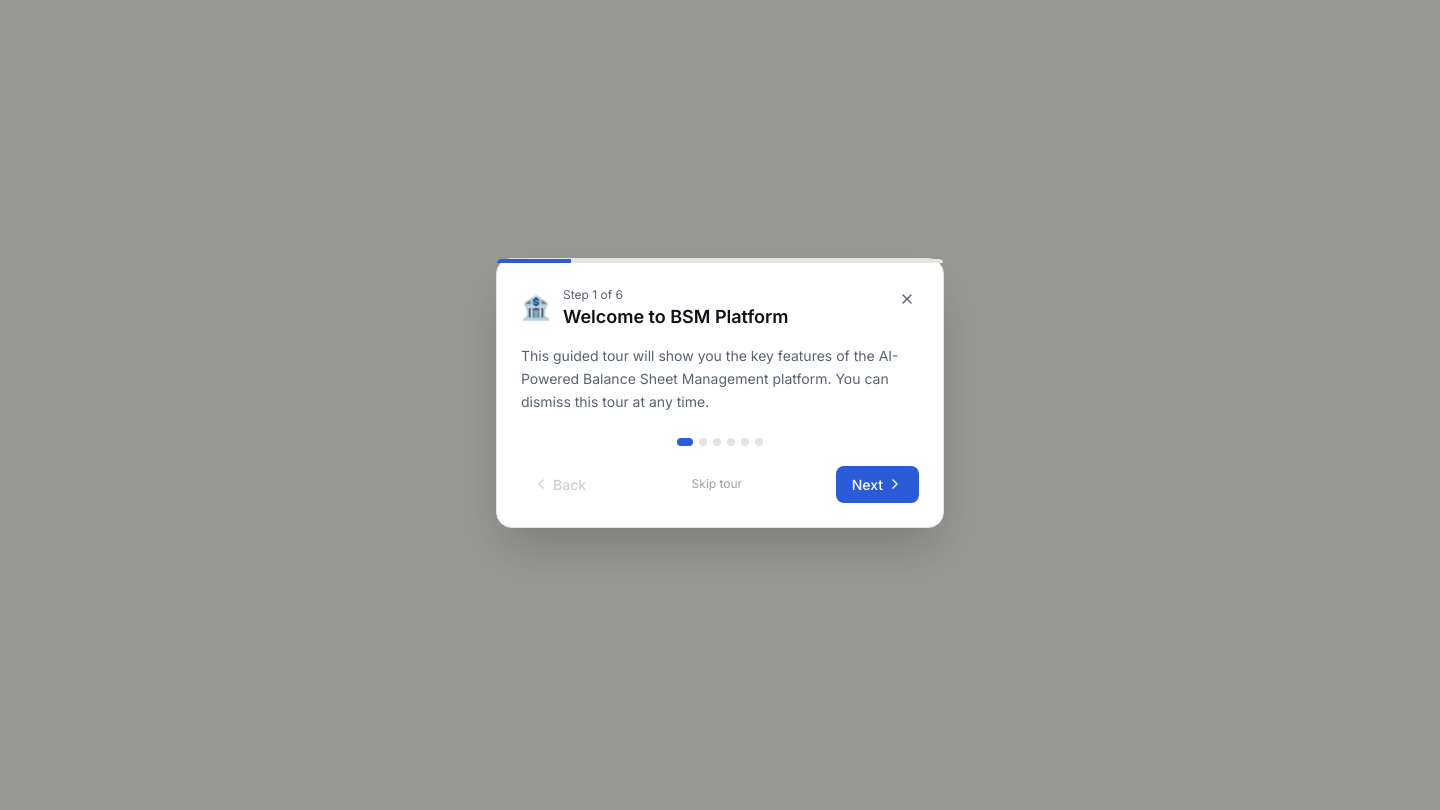
Scenario: ProductTour › last step shows Get started button
Step 1. Click the button with aria-label "Next step" → (877, 484), box left=836, top=466, right=919, bottom=503
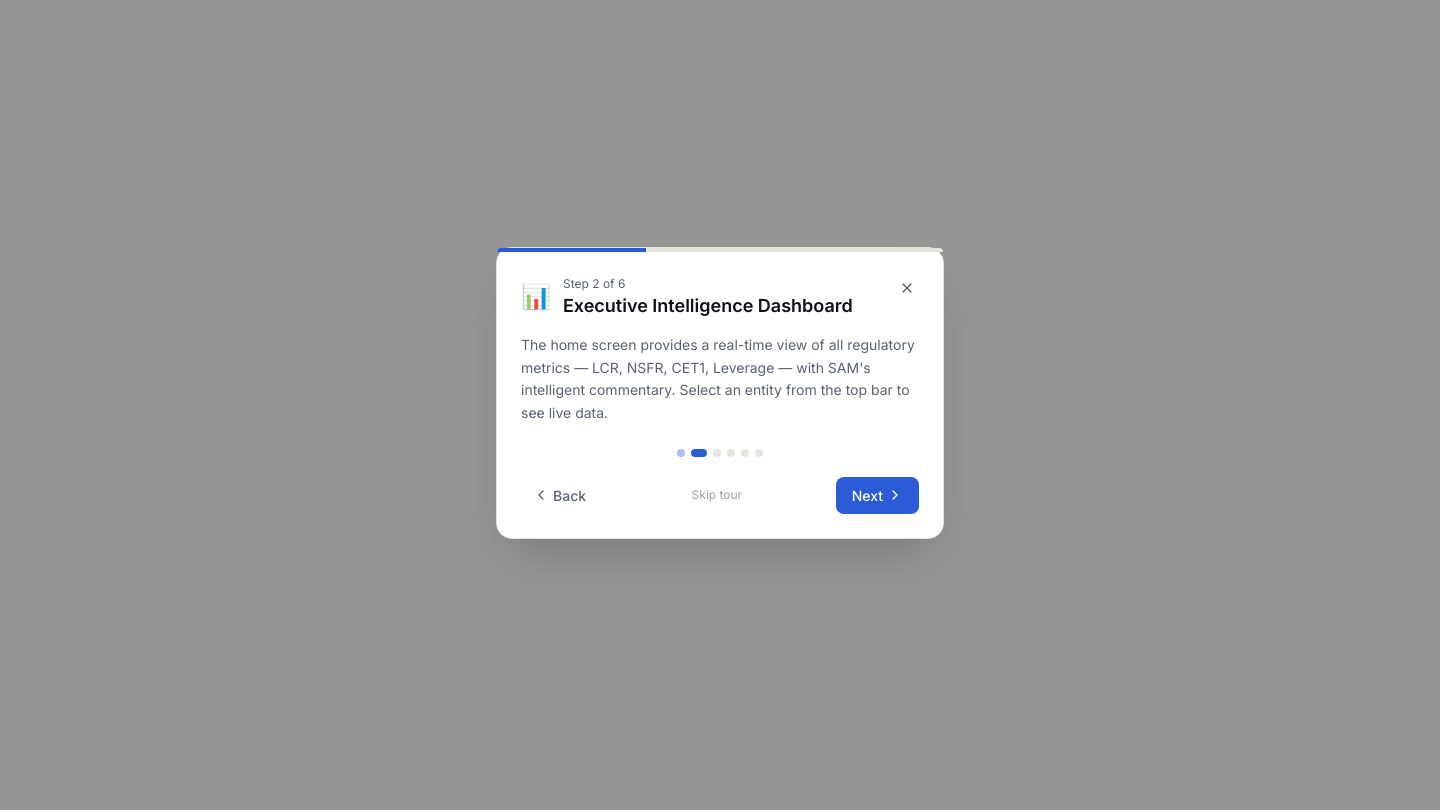
Step 2. Click the button with aria-label "Next step" → (877, 496), box left=836, top=477, right=919, bottom=514
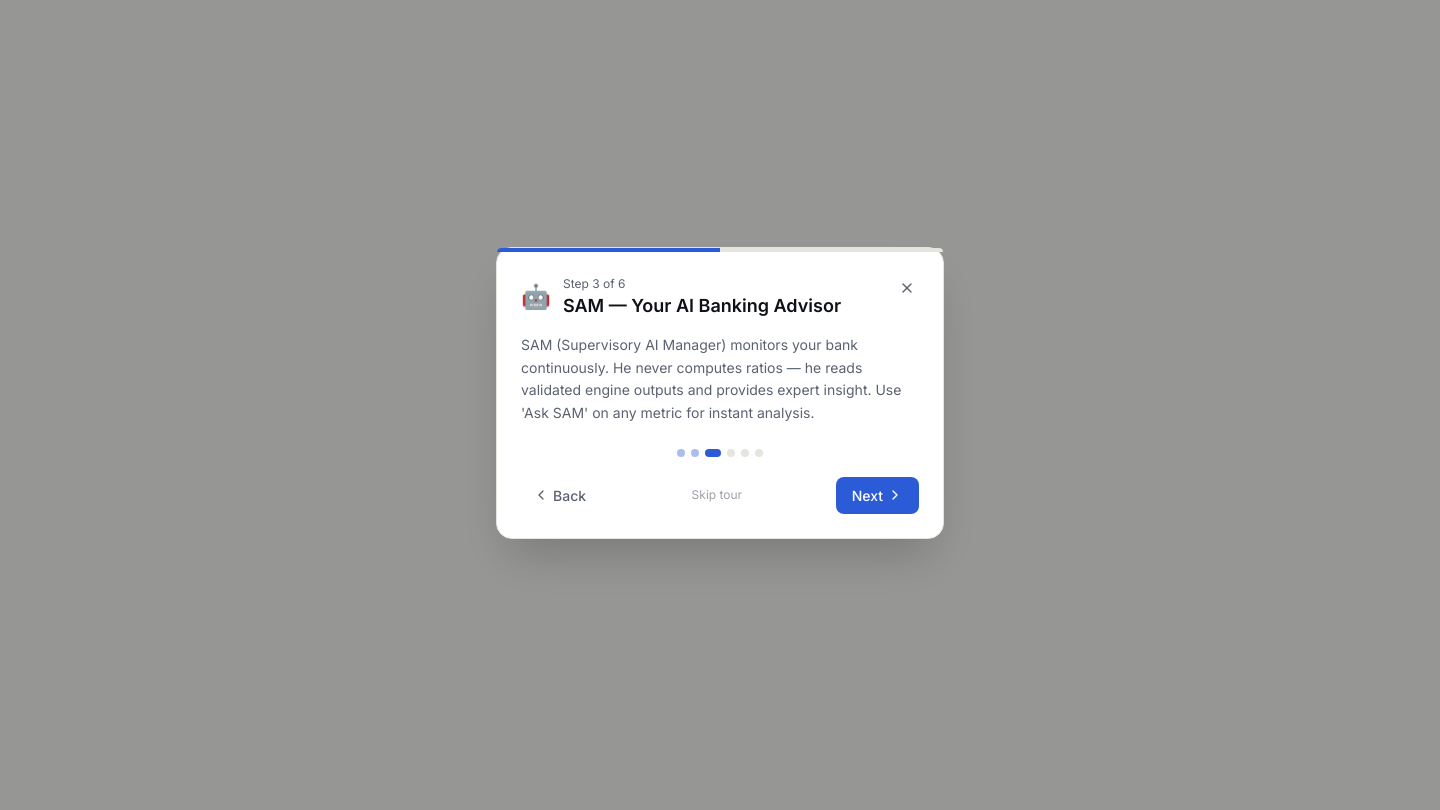
Step 3. Click the button with aria-label "Next step" → (877, 496), box left=836, top=477, right=919, bottom=514
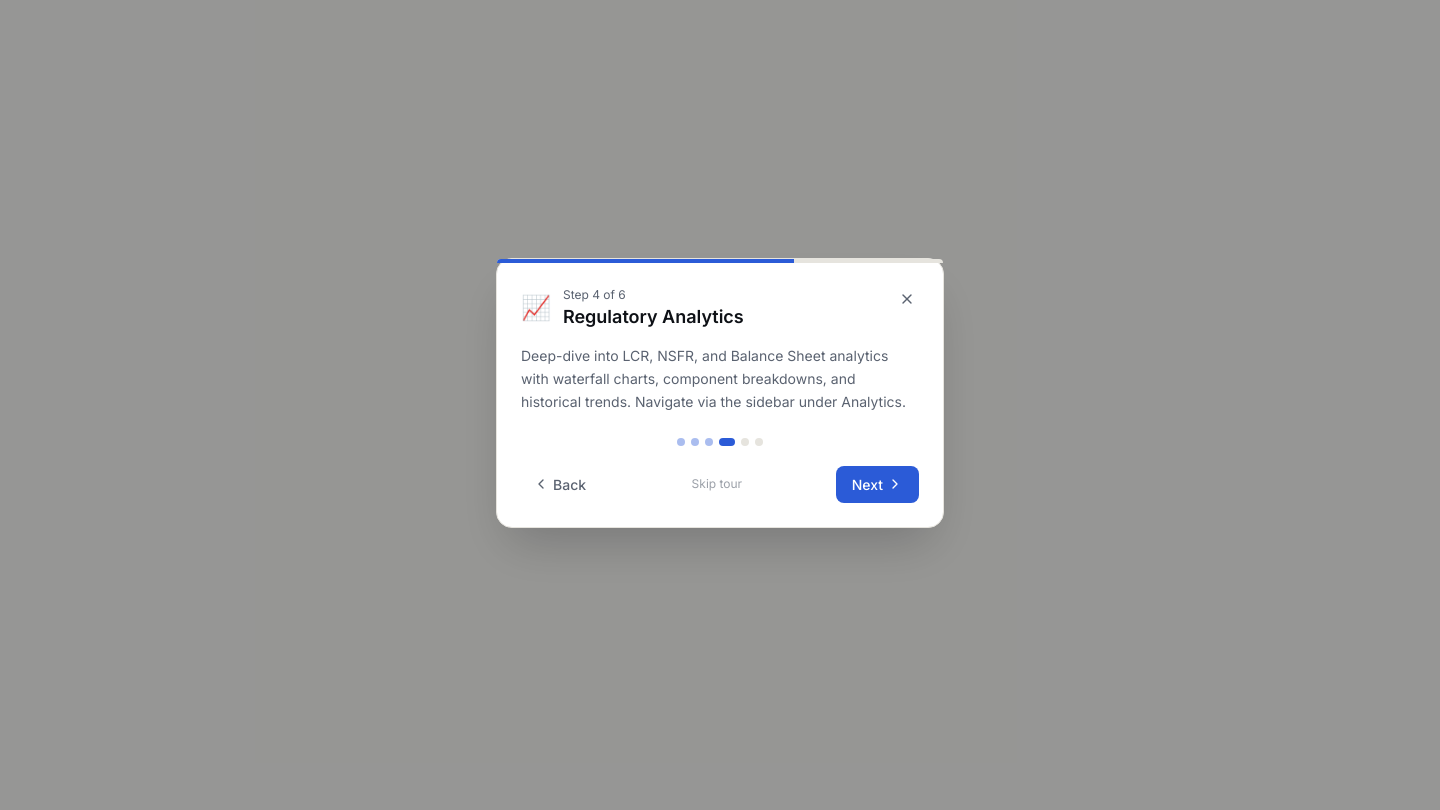
Step 4. Click the button with aria-label "Next step" → (877, 484), box left=836, top=466, right=919, bottom=503
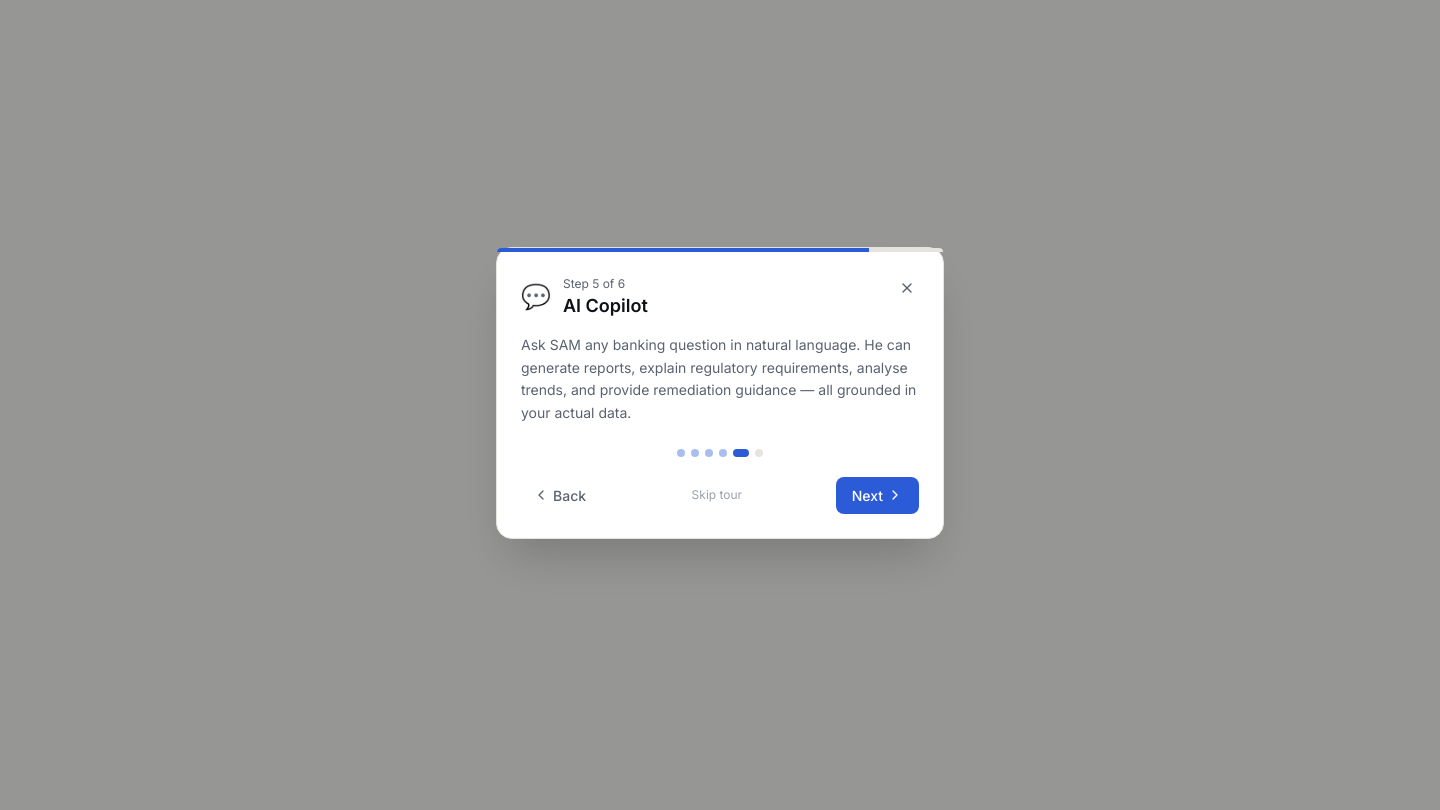
Step 5. Click the button with aria-label "Next step" → (877, 496), box left=836, top=477, right=919, bottom=514
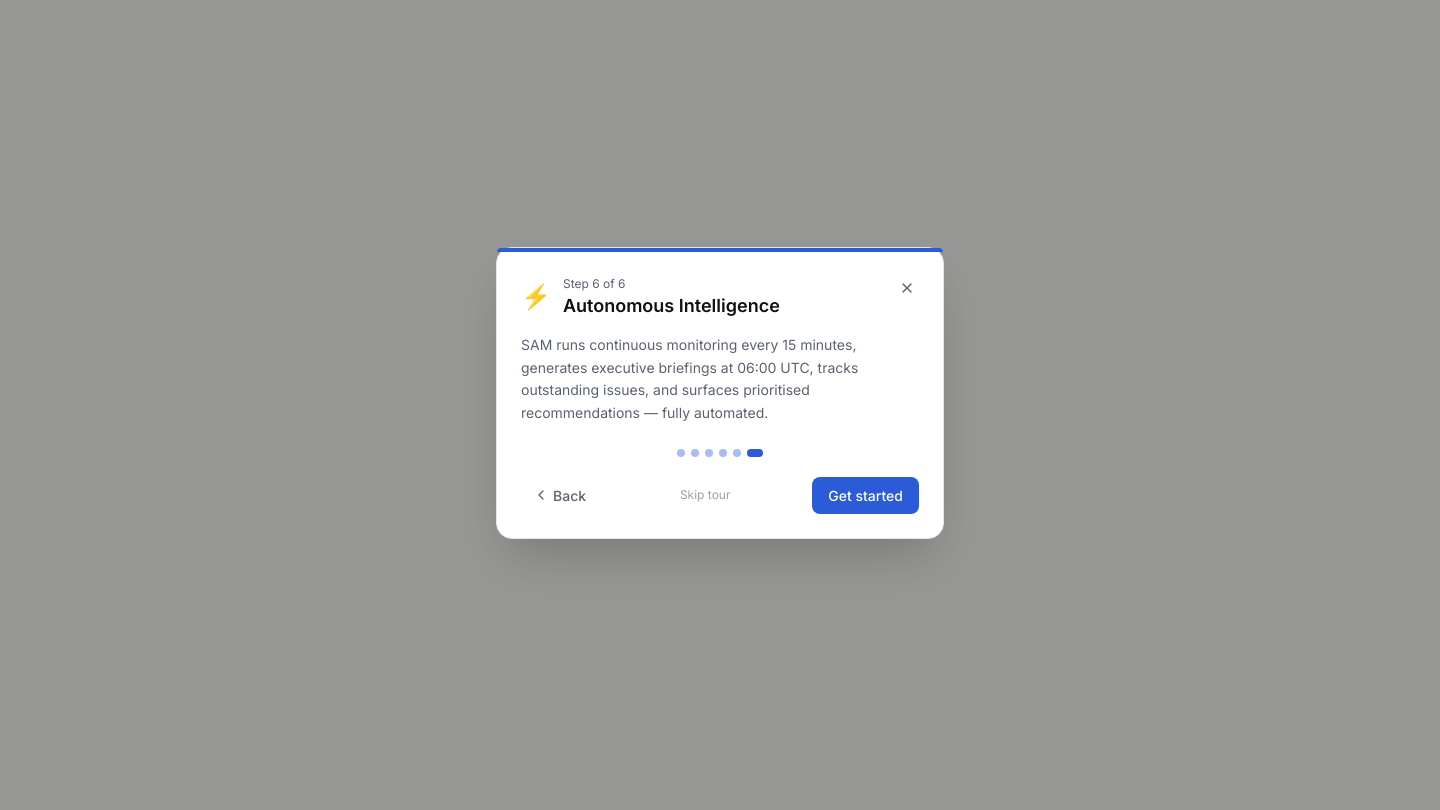
Result: the button with aria-label "Finish tour" is shown at left=812, top=477, right=919, bottom=514
